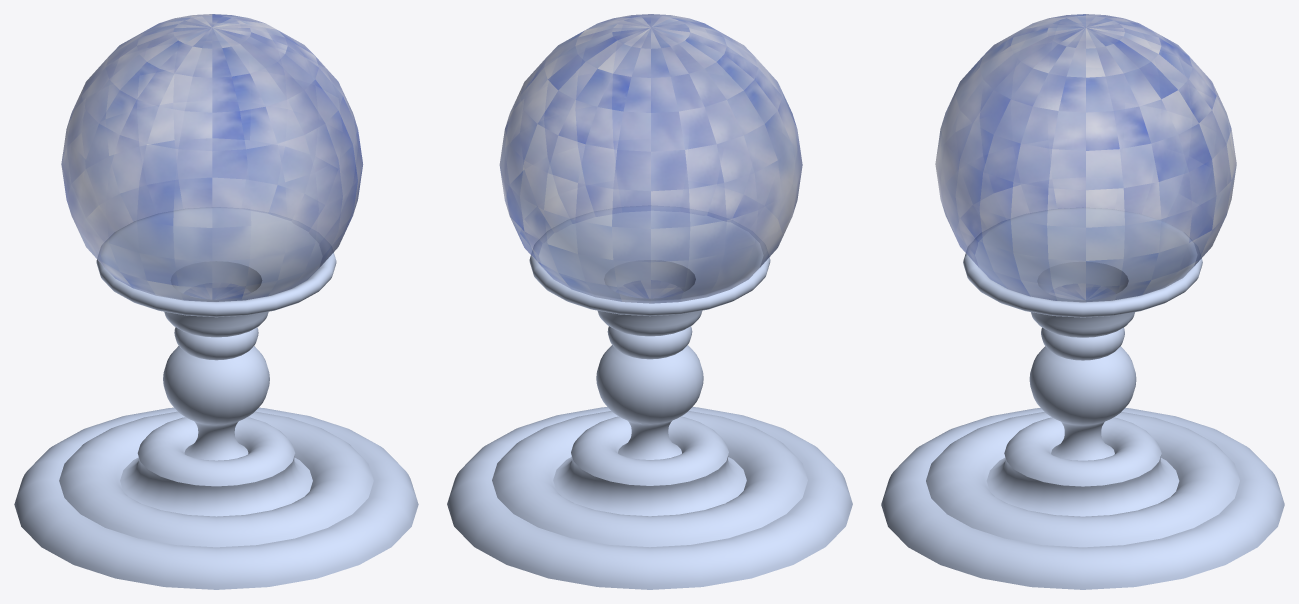
The picture shows the model from 3 angles, left to right: view 1: azimuth 30°, elevation 25°; view 2: azimuth 150°, elevation 25°; view 3: azimuth 270°, elevation 25°; orthographic projection.
Visible parts, largest first — view 1: Mesh2_Group2_ball1_Model.001; view 2: Mesh2_Group2_ball1_Model.001; view 3: Mesh2_Group2_ball1_Model.001.
Boxes of the visible parts, bbox=[...] form: Mesh2_Group2_ball1_Model.001: bbox=[14, 14, 418, 589]; Mesh2_Group2_ball1_Model.001: bbox=[447, 14, 852, 589]; Mesh2_Group2_ball1_Model.001: bbox=[881, 14, 1284, 589].
Bounding box in the file's own units: 1 × 1.3 × 1.
2 materials, 1 textured.
